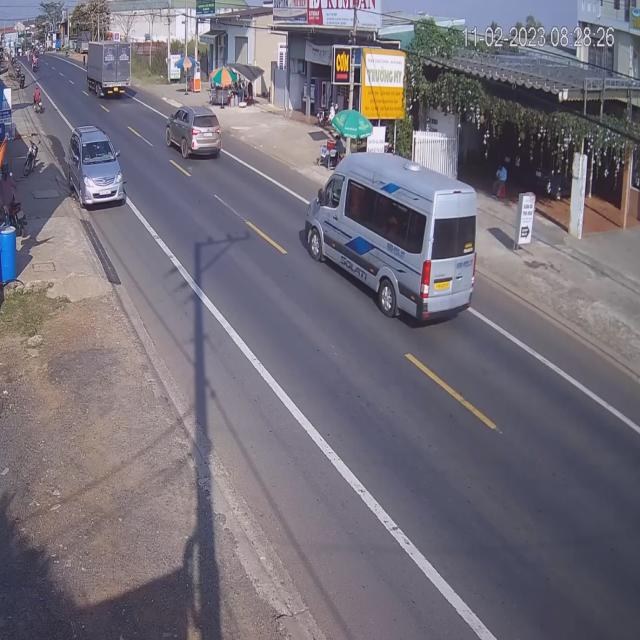bus: (303, 152, 479, 324)
car: (68, 126, 125, 210), (169, 105, 225, 161)
truck: (83, 42, 128, 98)
